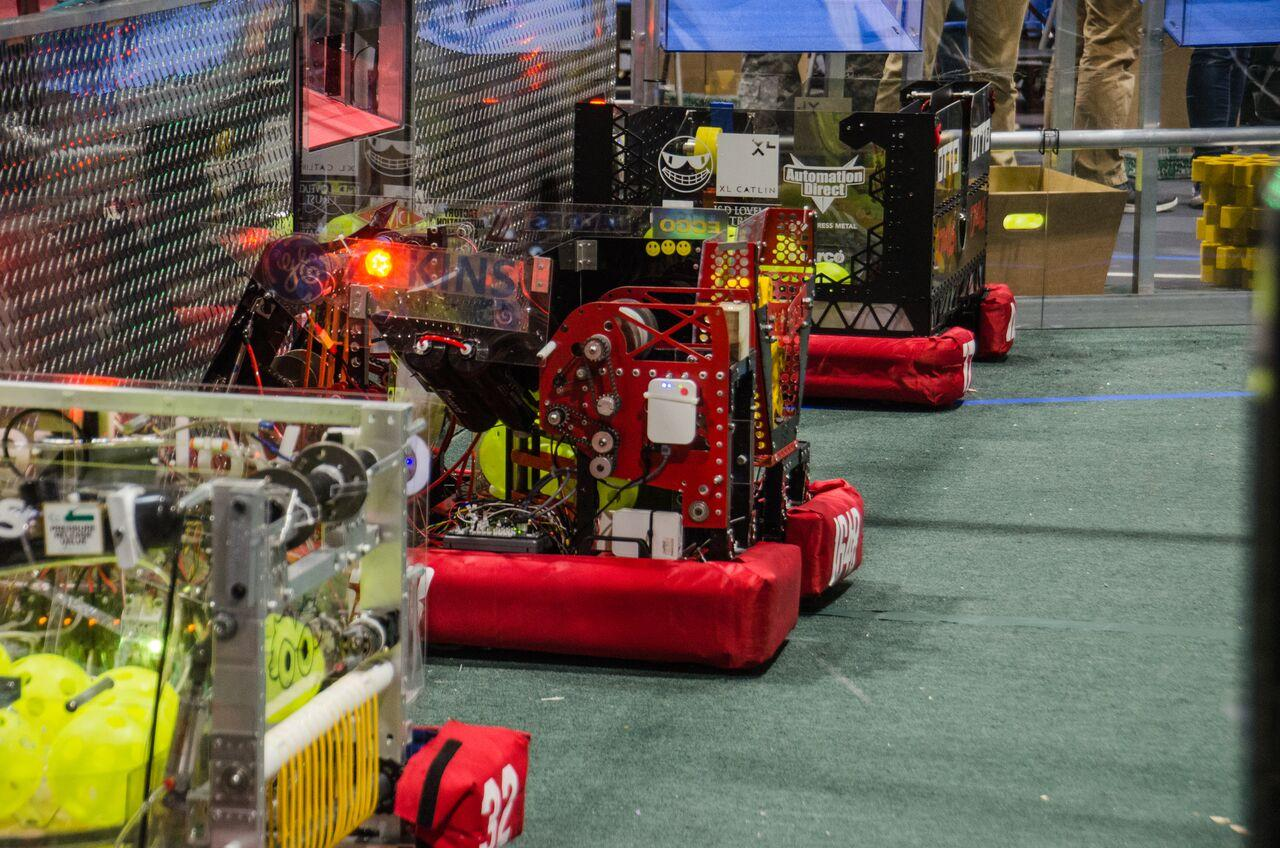robot: (192, 195, 865, 672), (1, 373, 526, 848), (543, 85, 1017, 408)
